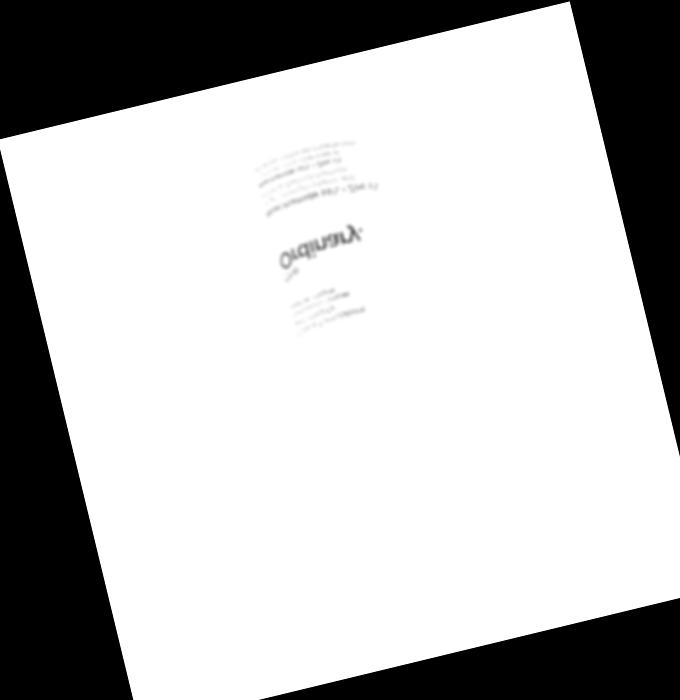cosmetic: (224, 79, 512, 627)
